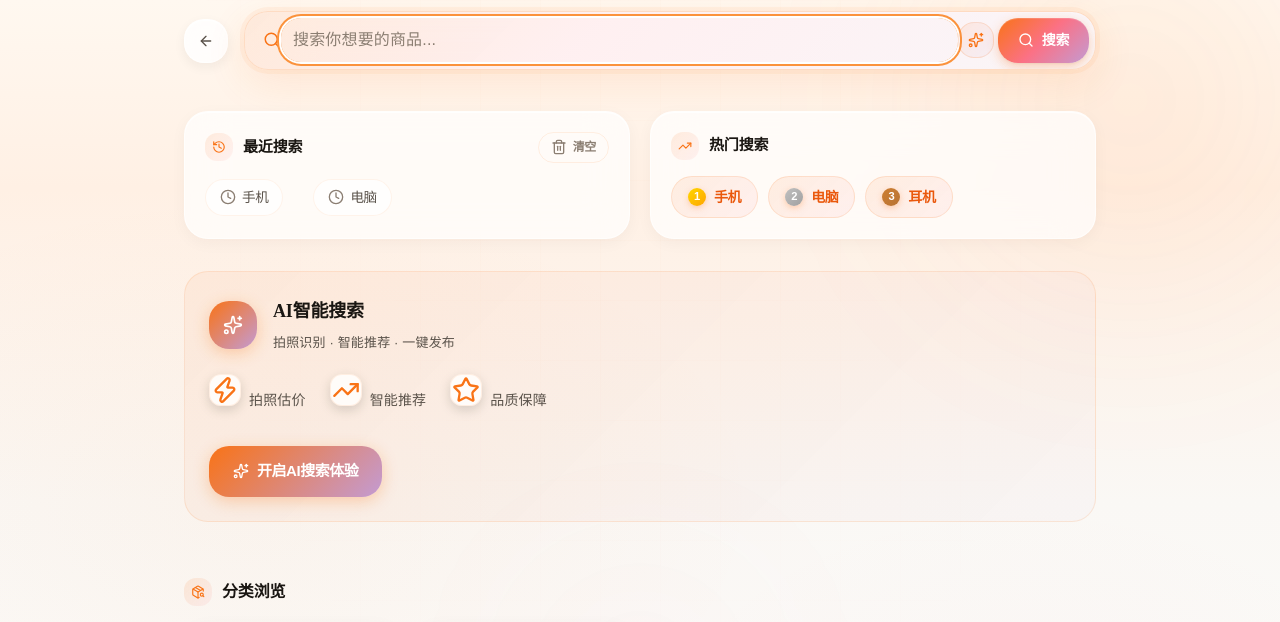
Test case: SearchPage › shows no results state
In the field with placeholder "搜索你想要的商品...": (619, 40) [281,18,958,62], type "zzz"
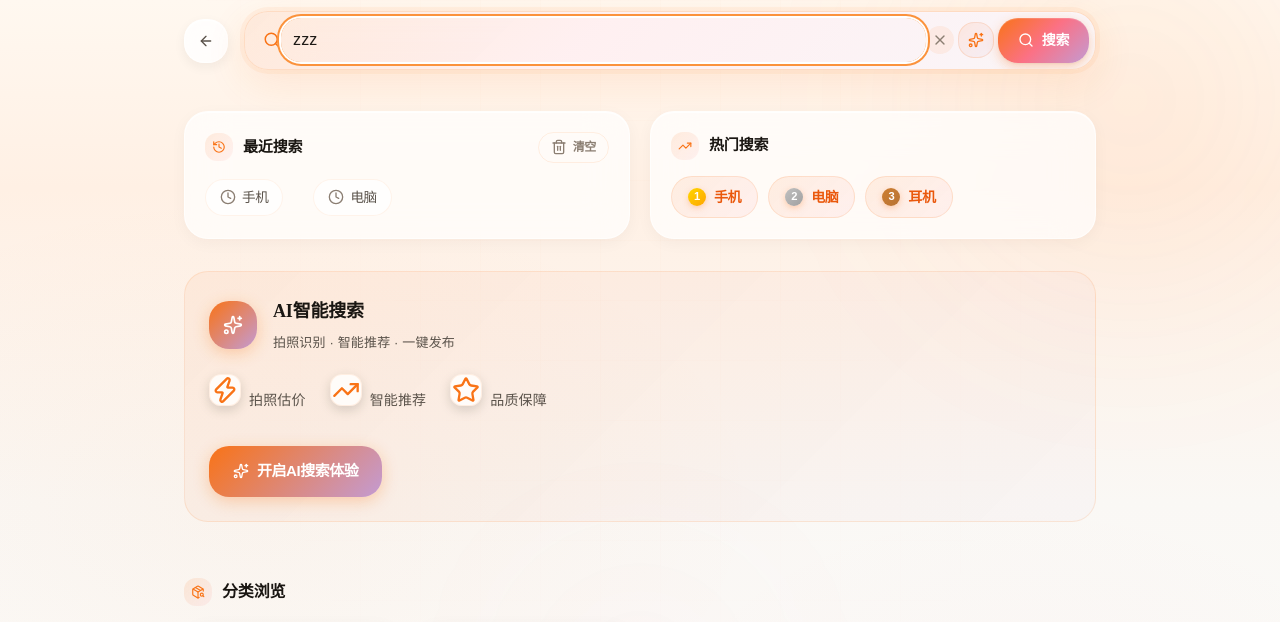
Click the button "搜索": click(1043, 40) [998,18,1089,62]
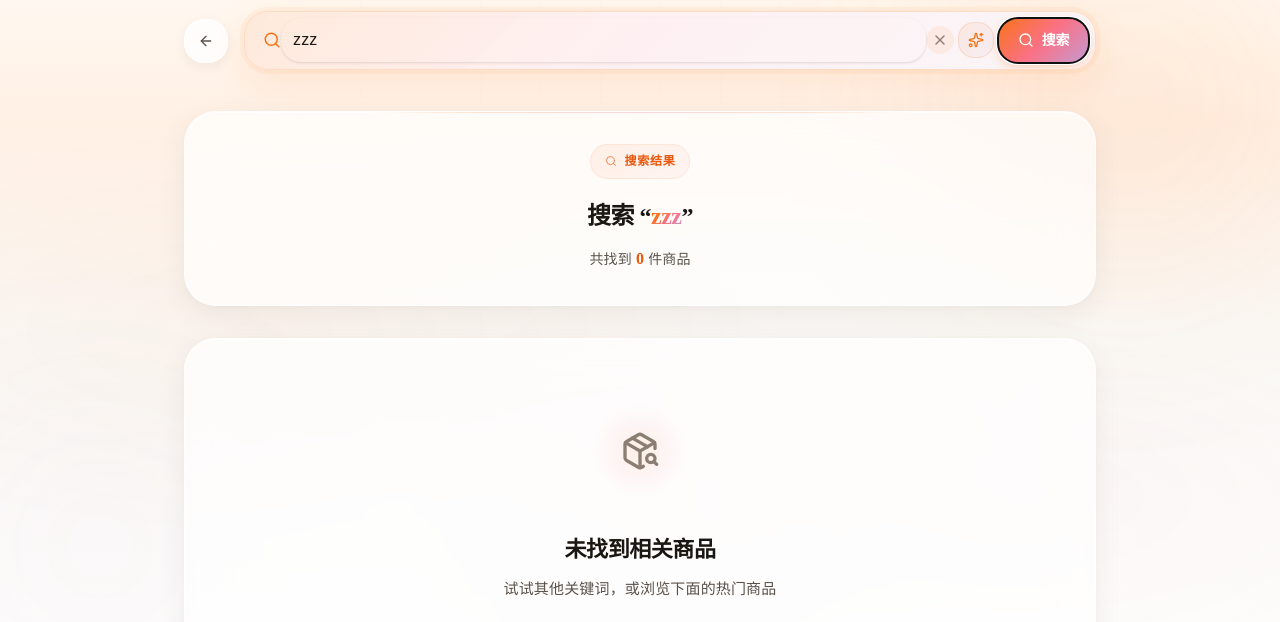
Expected: the heading "未找到相关商品" is shown, [564,530,715,569]
Expected: the text "试试其他关键词，或浏览下面的热门商品" is shown, [504,577,776,601]
